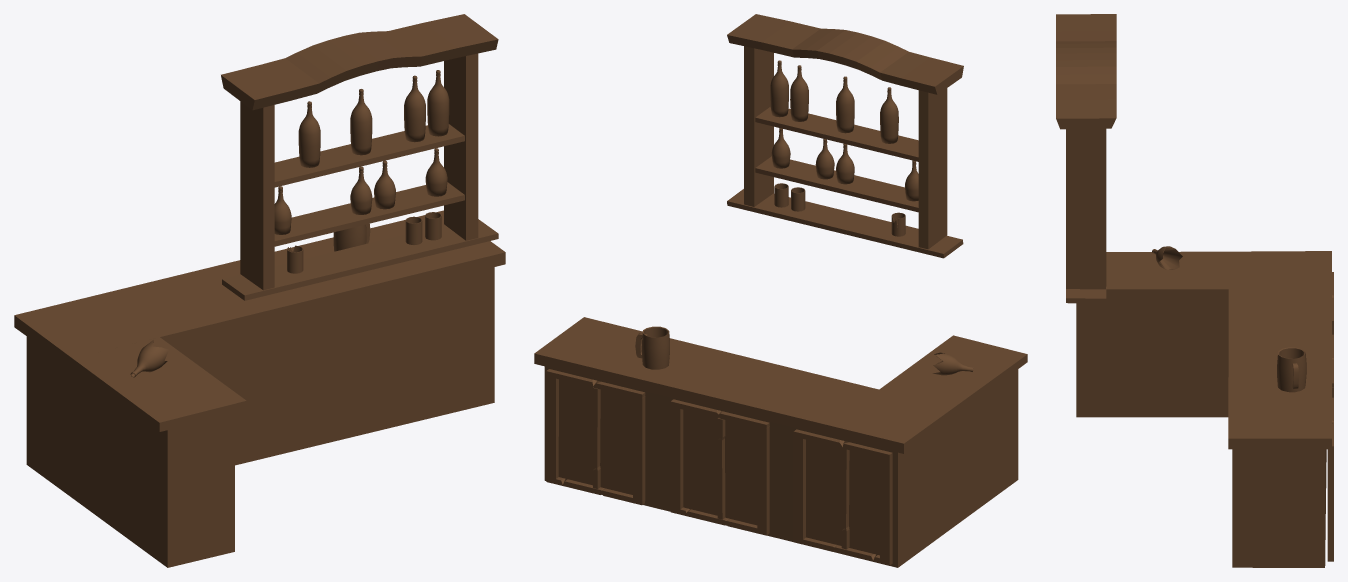
The model's file is bar.fbx.
3 renders of one model, left to right at view 1: azimuth 30°, elevation 25°; view 2: azimuth 150°, elevation 25°; view 3: azimuth 270°, elevation 25°, orthographic. The views are drawn at different scales.
Visible parts, largest first — view 1: bar; view 2: bar; view 3: bar.
Boxes of the visible parts, <box> form: bar: <box>14,14,505,567</box>; bar: <box>534,14,1027,567</box>; bar: <box>1056,14,1333,567</box>.
Bounding box in the file's own units: 237 × 244 × 148.
